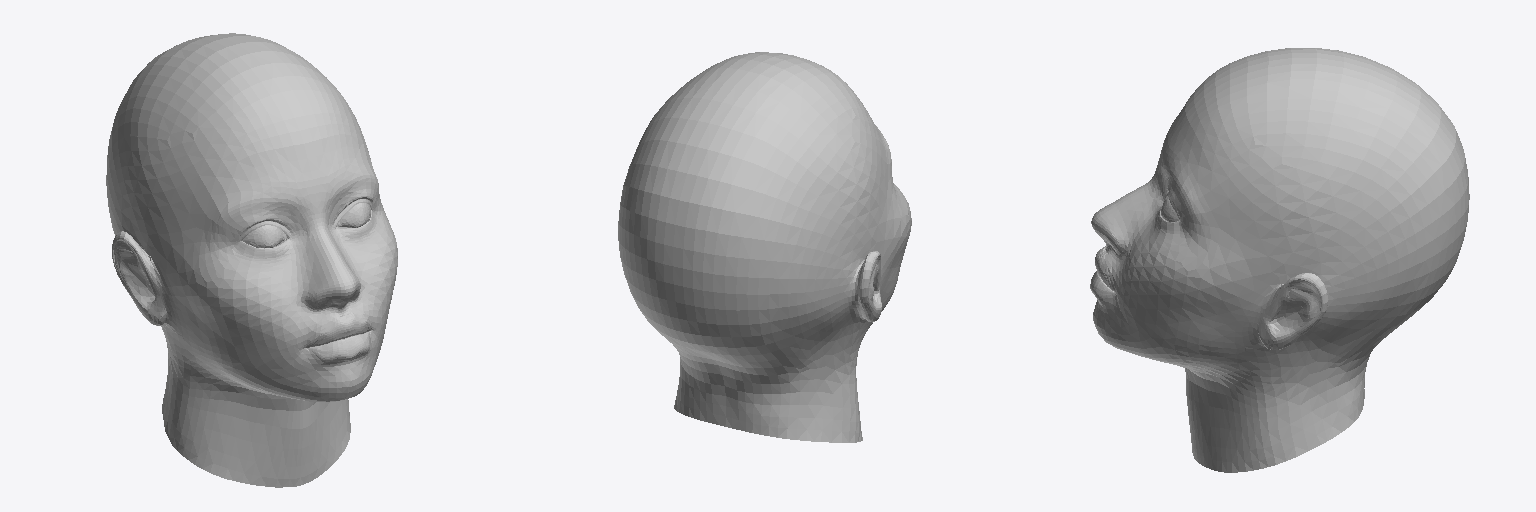
3 views of the same model, side by side, from view 1: azimuth 30°, elevation 25°; view 2: azimuth 150°, elevation 25°; view 3: azimuth 270°, elevation 25° (orthographic).
Parts seen in each view (by area): view 1: FaceGen; view 2: FaceGen; view 3: FaceGen.
Part boxes in pixels (x1,y1,x2,y2): FaceGen: (106, 33, 397, 487); FaceGen: (618, 52, 911, 442); FaceGen: (1090, 48, 1469, 472).
Bounding box in the file's own units: 185 × 284 × 246.